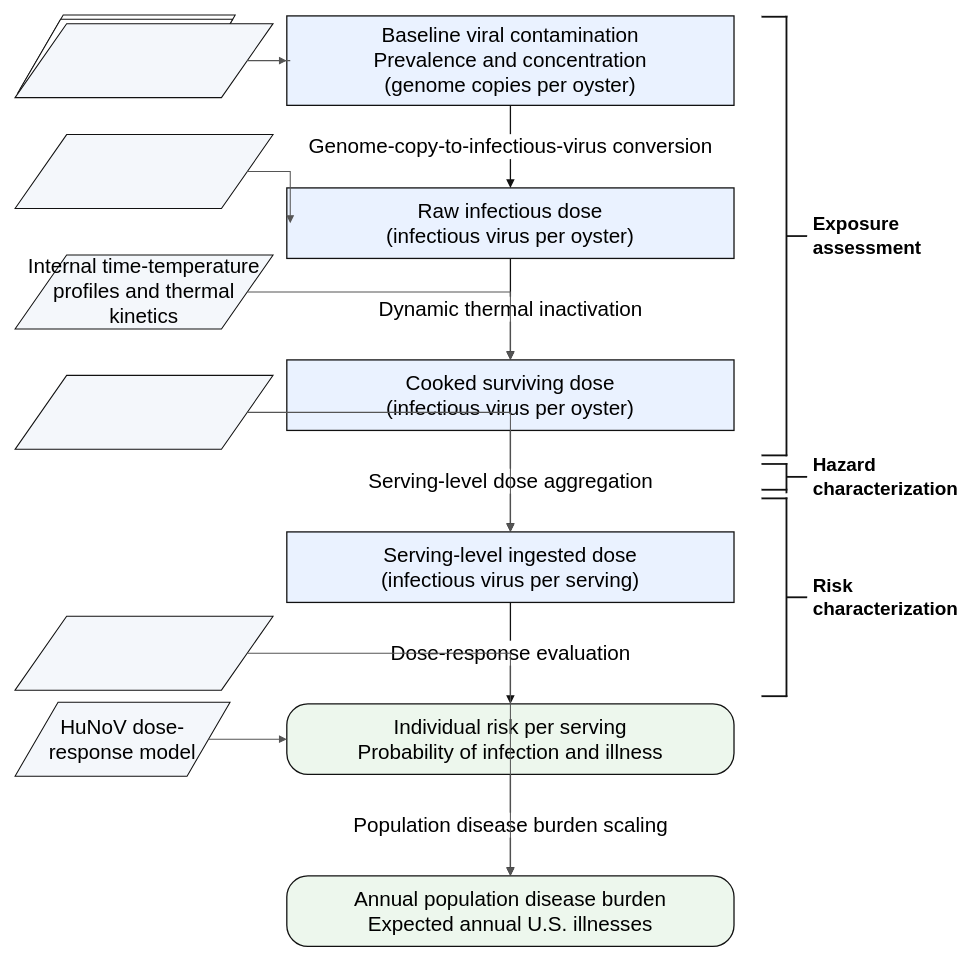
This 974x962 diagram has some shape labels left out. The shapes that lost their labels are listed below. From the top down, each one's box as (x1, y1, x2, y2) in pixels, then its label:
(14, 23, 273, 98): Observed HuNoV GII survey data
(14, 134, 273, 209): Tulane virus GC:PFU ratio (Q)
(14, 374, 273, 449): Oyster consumption and serving size distribution
(14, 615, 273, 690): FoodNet eating frequency and U.S. population
